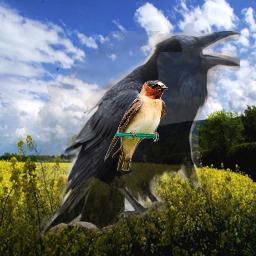Crow: (37, 31, 240, 241)
Swallow: (104, 80, 168, 171)
